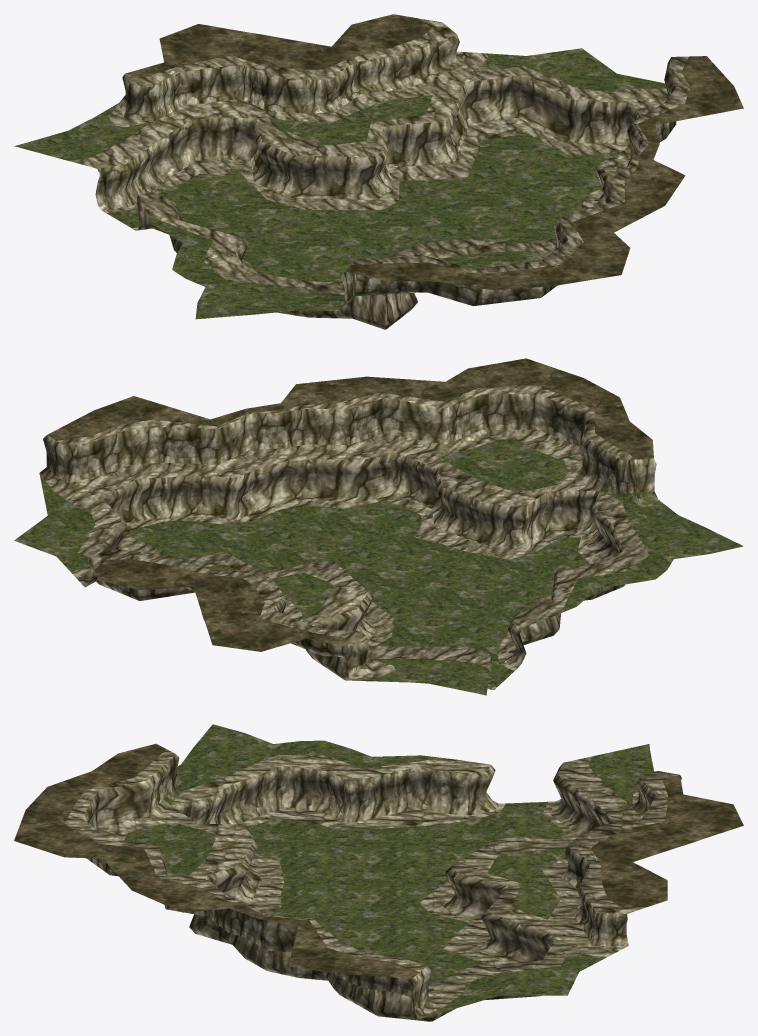
The model's file is CB_NEWPLAYSURFACE_CB_PLAYSURFACE57.fbx.
The picture shows the model from 3 angles, top to bottom: view 1: azimuth 30°, elevation 25°; view 2: azimuth 150°, elevation 25°; view 3: azimuth 270°, elevation 25°; orthographic projection. The views are drawn at different scales.
Visible parts, largest first — view 1: CB_NEWPLAYSURFACE_CB_PLAYSURFACE57; view 2: CB_NEWPLAYSURFACE_CB_PLAYSURFACE57; view 3: CB_NEWPLAYSURFACE_CB_PLAYSURFACE57.
Boxes of the visible parts, x1,y1,x2,y2 form: CB_NEWPLAYSURFACE_CB_PLAYSURFACE57: (14, 14, 743, 329); CB_NEWPLAYSURFACE_CB_PLAYSURFACE57: (14, 358, 743, 695); CB_NEWPLAYSURFACE_CB_PLAYSURFACE57: (14, 724, 743, 1021).
Bounding box in the file's own units: 584629 × 70842 × 609229.
Materials: 4 (4 with a texture image).
